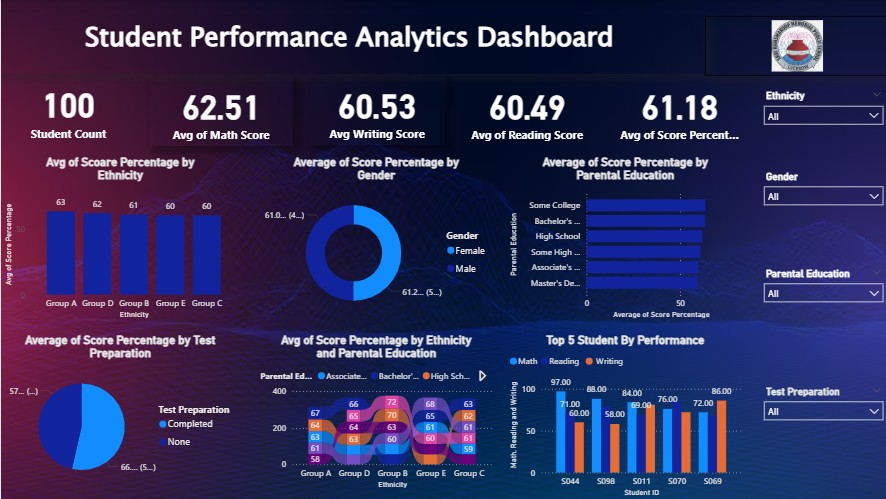

This screenshot's page, from the dashboard's own definition file:
{"tool":"powerbi","page":{"name":"All Subject Dashboard","canvas":[1280,720],"ordinal":0},"visuals":[{"type":"textbox","box":[0,20.2,1013.8,86.4],"z":0},{"type":"image","box":[1013.8,23,266.4,86.4],"z":1000},{"type":"card","fields":{"Values":["Count(Marks.Student ID)"]},"box":[0,106.6,194.4,102.2],"z":2000},{"type":"card","fields":{"Values":["Avg(Marks.Math Score)"]},"box":[213.7,109.8,207.8,101],"z":3000},{"type":"card","fields":{"Values":["Avg(Marks.Writing Score)"]},"box":[443.4,108.3,196.1,101],"z":4000},{"type":"card","fields":{"Values":["Avg(Marks.Reading Score)"]},"box":[660,109.8,196.1,101],"z":5000},{"type":"card","fields":{"Values":["Avg(Marks.Score Percentage)"]},"box":[882.4,109.8,188.8,101],"z":6000},{"type":"slicer","fields":{"Values":["Marks.Ethnicity"]},"box":[1088.6,109.4,191.5,102.2],"z":7000},{"type":"slicer","fields":{"Values":["Marks.Gender"]},"box":[1088.8,240,191.7,120],"z":8000},{"type":"slicer","fields":{"Values":["Marks.Parental Education"]},"box":[1088.8,380.5,191.7,140.5],"z":9000},{"type":"columnChart","title":"Avg of Scoare Percentage by Ethnicity","fields":{"Category":["Marks.Ethnicity"],"Y":["Avg(Marks.Score Percentage)"]},"box":[0,223.9,343.9,240],"z":10000},{"type":"donutChart","fields":{"Category":["Marks.Gender"],"Y":["Avg(Marks.Score Percentage)"]},"box":[368.8,223.9,343.9,240],"z":11000},{"type":"clusteredBarChart","fields":{"Category":["Marks.Parental Education"],"Y":["Avg(Marks.Score Percentage)"]},"box":[727.3,223.9,343.9,240],"z":12000},{"type":"pieChart","fields":{"Y":["Avg(Marks.Score Percentage)"],"Category":["Marks.Test Preparation"]},"box":[0,480,343.9,228.3],"z":13000},{"type":"ribbonChart","fields":{"Category":["Marks.Ethnicity"],"Y":["Avg(Marks.Score Percentage)"],"Series":["Marks.Parental Education"]},"box":[368.8,480,343.9,228.3],"z":14000},{"type":"slicer","fields":{"Values":["Marks.Test Preparation"]},"box":[1088.8,550.2,191.7,158],"z":15000},{"type":"clusteredColumnChart","title":"Top 5 Student By Performance","fields":{"Y":["Avg(Marks.Math Score)","Avg(Marks.Reading Score)","Avg(Marks.Writing Score)"],"Category":["Marks.Student ID"]},"box":[727.3,480,343.9,240],"z":16000}]}

Visuals, with their boxes in screenshot pixels (x1, y1, x2, y2), scaled from the page's 1280x720 canvas onto the 886x499 screenshot:
textbox: left=0, top=14, right=702, bottom=74
image: left=702, top=16, right=885, bottom=76
card - Count(Marks.Student ID): left=0, top=74, right=135, bottom=145
card - Avg(Marks.Math Score): left=148, top=76, right=292, bottom=146
card - Avg(Marks.Writing Score): left=307, top=75, right=443, bottom=145
card - Avg(Marks.Reading Score): left=457, top=76, right=593, bottom=146
card - Avg(Marks.Score Percentage): left=611, top=76, right=741, bottom=146
slicer - Marks.Ethnicity: left=754, top=76, right=885, bottom=147
slicer - Marks.Gender: left=754, top=166, right=885, bottom=250
slicer - Marks.Parental Education: left=754, top=264, right=885, bottom=361
"Avg of Scoare Percentage by Ethnicity" columnChart: left=0, top=155, right=238, bottom=322
donutChart - Marks.Gender x Avg(Marks.Score Percentage): left=255, top=155, right=493, bottom=322
clusteredBarChart - Marks.Parental Education x Avg(Marks.Score Percentage): left=503, top=155, right=741, bottom=322
pieChart - Avg(Marks.Score Percentage) x Marks.Test Preparation: left=0, top=333, right=238, bottom=491
ribbonChart - Marks.Ethnicity x Avg(Marks.Score Percentage): left=255, top=333, right=493, bottom=491
slicer - Marks.Test Preparation: left=754, top=381, right=885, bottom=491
"Top 5 Student By Performance" clusteredColumnChart: left=503, top=333, right=741, bottom=498
